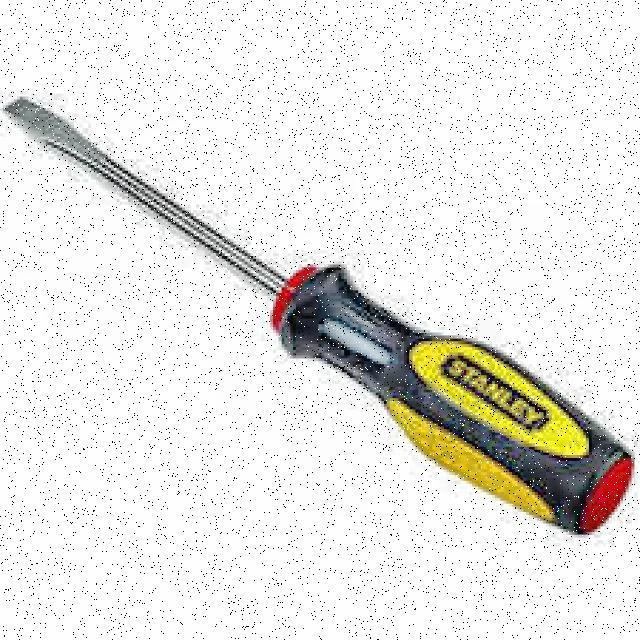screwdriver: (2, 98, 634, 536)
